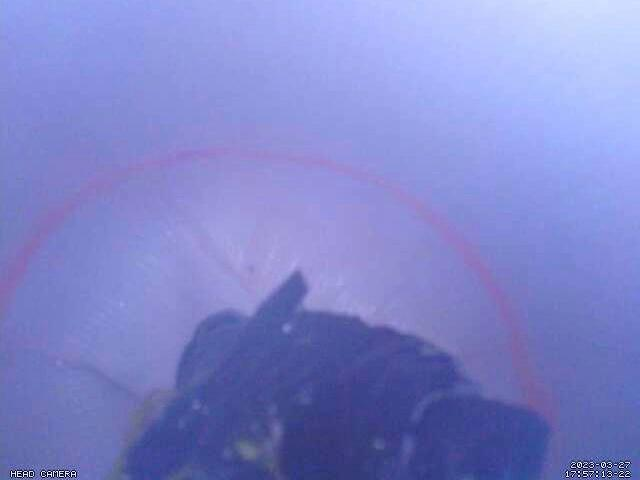head: (1, 146, 561, 435)
